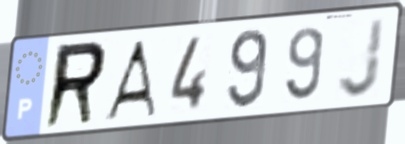4: (168, 33, 210, 114)
9: (225, 27, 270, 111), (283, 25, 326, 104)
A: (101, 37, 159, 121)
J: (335, 15, 387, 101)
R: (41, 38, 111, 132)
